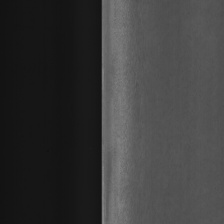silk_spot: (118, 33, 145, 189)
